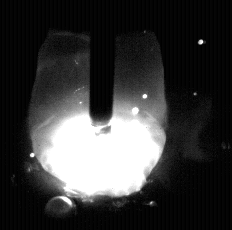arame: (90, 0, 115, 126)
poca: (29, 0, 168, 230)
